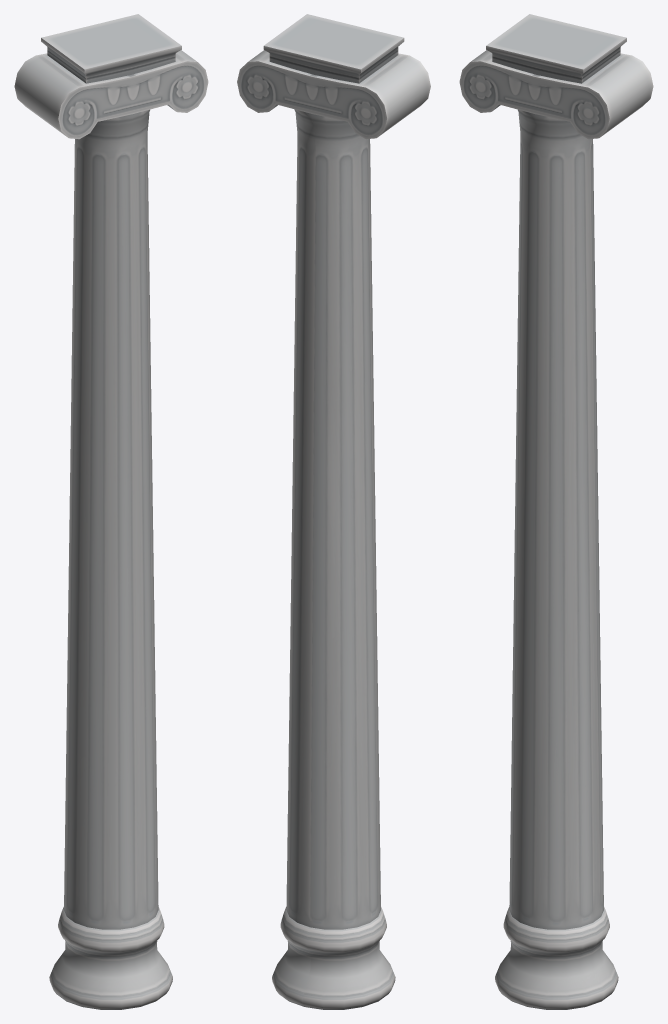
File: PropColumn01_1.FBX
3 renders of one model, left to right at view 1: azimuth 30°, elevation 25°; view 2: azimuth 150°, elevation 25°; view 3: azimuth 330°, elevation 25°, orthographic.
Visible parts, largest first — view 1: PropColumn01_1; view 2: PropColumn01_1; view 3: PropColumn01_1.
Part boxes in pixels (x1=…): PropColumn01_1: x1=14, y1=14, x2=208, y2=1009; PropColumn01_1: x1=237, y1=14, x2=430, y2=1009; PropColumn01_1: x1=459, y1=14, x2=653, y2=1009.
Size of what is drawn, in the model's own units: 1.16 by 6.95 by 0.8249.
